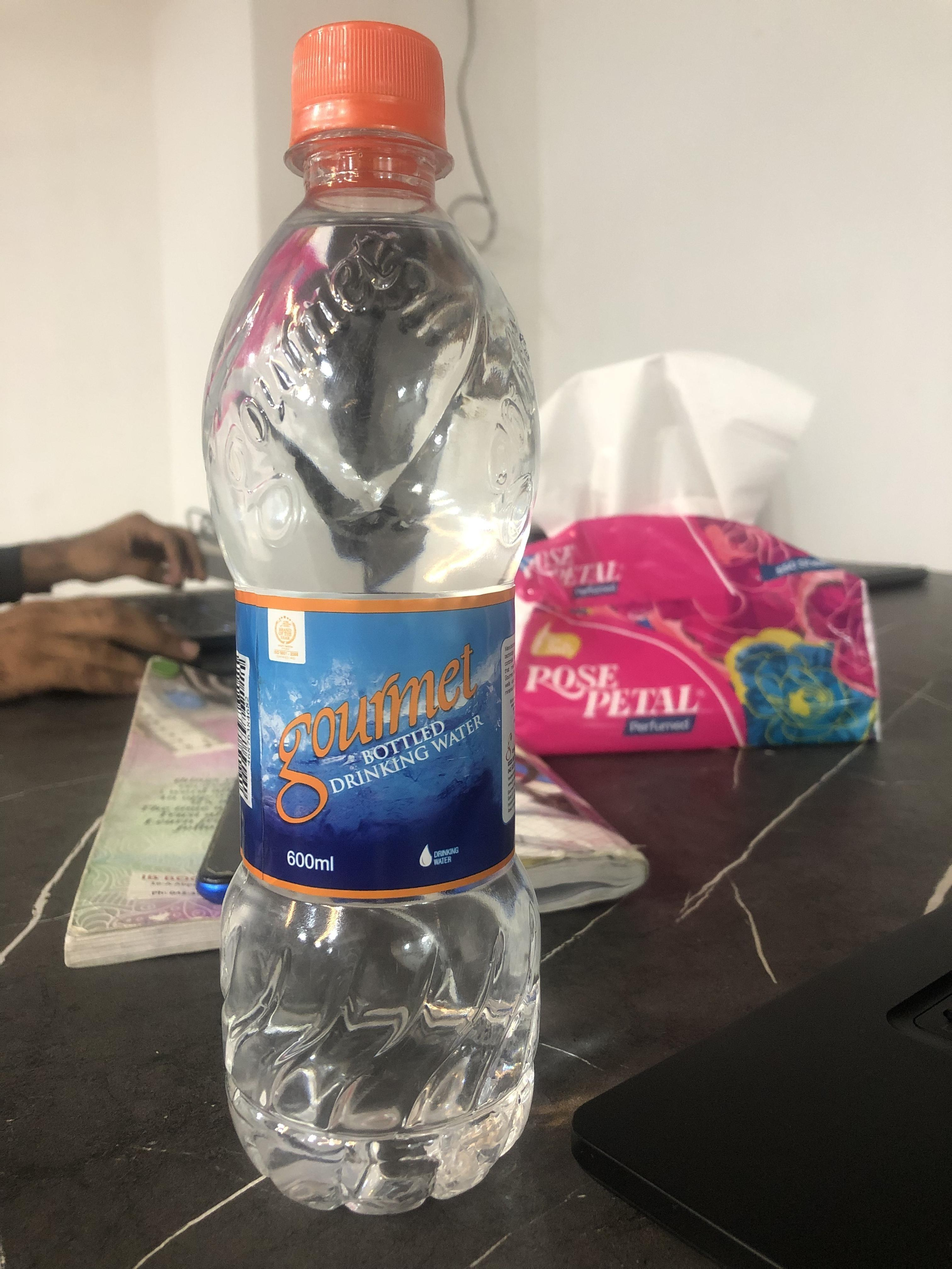bottle-plastic: (200, 16, 558, 1224)
